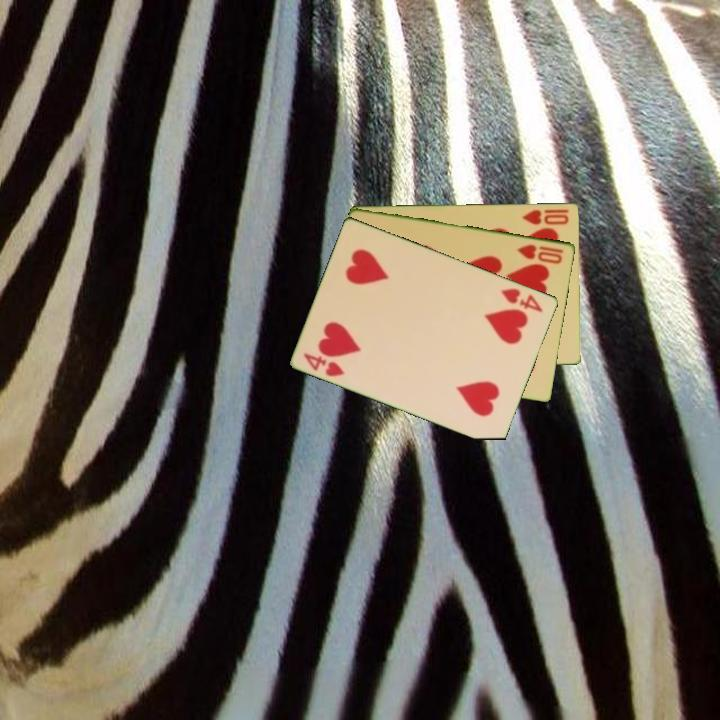10h: (514, 240, 566, 267), (519, 206, 572, 227)
4h: (497, 284, 546, 315), (300, 349, 348, 379)
